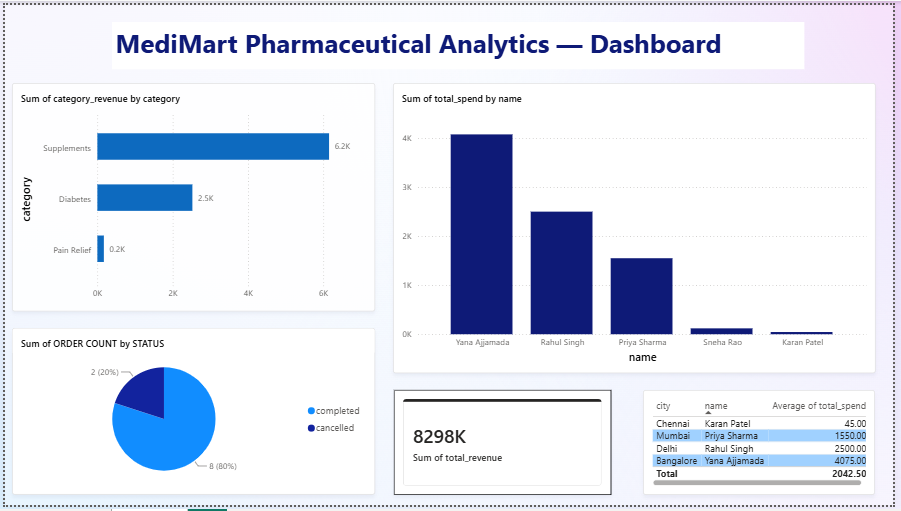

What the dashboard file says about the page in this screenshot:
{"tool":"powerbi","page":{"name":"Page 1","canvas":[1280,720],"ordinal":0},"visuals":[{"type":"clusteredBarChart","fields":{"Y":["Sum(Q3_category_revenue.category_revenue)"],"Category":["Q3_category_revenue.category"]},"box":[10.7,112,522.7,328.9],"z":0},{"type":"pieChart","fields":{"Category":["Q1_OrderStatus.STATUS"],"Y":["Sum(Q1_OrderStatus.ORDER COUNT)"]},"box":[10.7,465.8,522.7,240],"z":1000},{"type":"columnChart","fields":{"Category":["Q9_spend_rank.name"],"Y":["Sum(Q9_spend_rank.total_spend)"]},"box":[558.2,112,695.1,417.8],"z":2000},{"type":"cardVisual","fields":{"Data":["Sum(Q2_total_revenue.total_revenue)"]},"box":[560,554.7,312.9,151.1],"z":3000},{"type":"tableEx","fields":{"Values":["Q8_top_spender_city.city","Q8_top_spender_city.name","Q8_top_spender_city.total_spend"]},"box":[919.1,554.7,334.2,151.1],"z":4000},{"type":"textbox","box":[154.7,24.9,997.3,67.6],"z":5000}]}

Visuals, with their boxes in screenshot pixels (x1, y1, x2, y2), scaled from the page's 1280x720 canvas onto the 901x511 screenshot:
clusteredBarChart - Sum(Q3_category_revenue.category_revenue) x Q3_category_revenue.category: 8, 79, 375, 313
pieChart - Q1_OrderStatus.STATUS x Sum(Q1_OrderStatus.ORDER COUNT): 8, 331, 375, 501
columnChart - Q9_spend_rank.name x Sum(Q9_spend_rank.total_spend): 393, 79, 882, 376
cardVisual - Sum(Q2_total_revenue.total_revenue): 394, 394, 614, 501
tableEx - Q8_top_spender_city.city x Q8_top_spender_city.name: 647, 394, 882, 501
textbox: 109, 18, 811, 66
